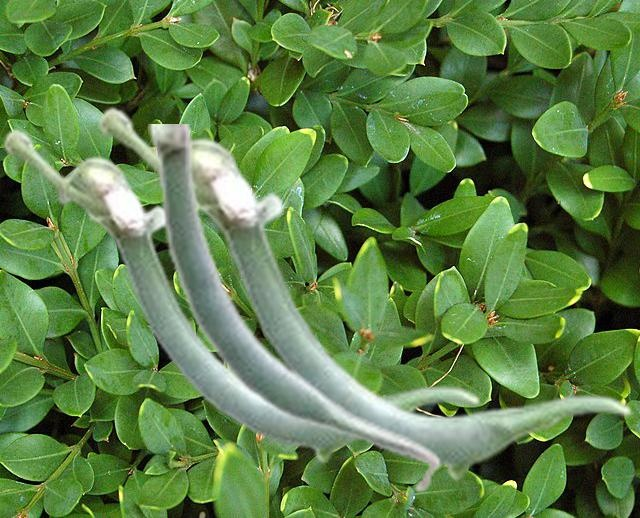french_bean: (97, 105, 632, 481), (2, 127, 480, 463), (148, 124, 441, 494)
